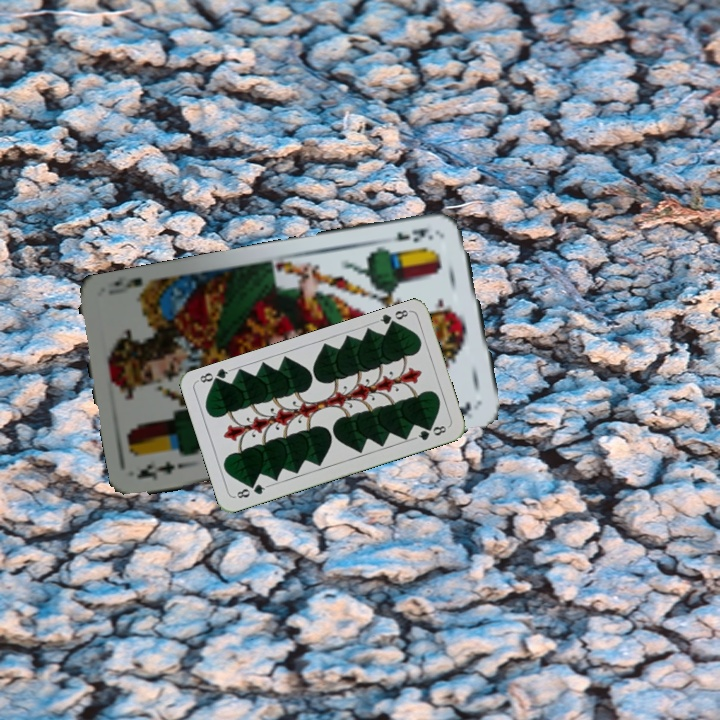EK: (133, 458, 192, 483), (392, 224, 436, 245)
G8: (372, 305, 412, 331), (231, 480, 270, 501)
